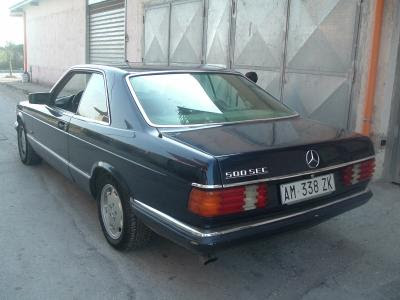car: (10, 57, 385, 263)
